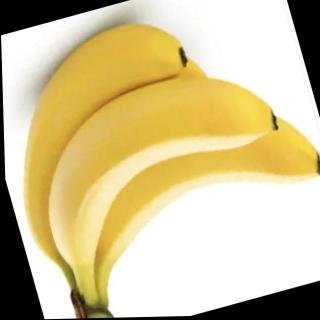banana: (15, 53, 301, 269), (0, 10, 231, 266), (62, 88, 320, 268)
